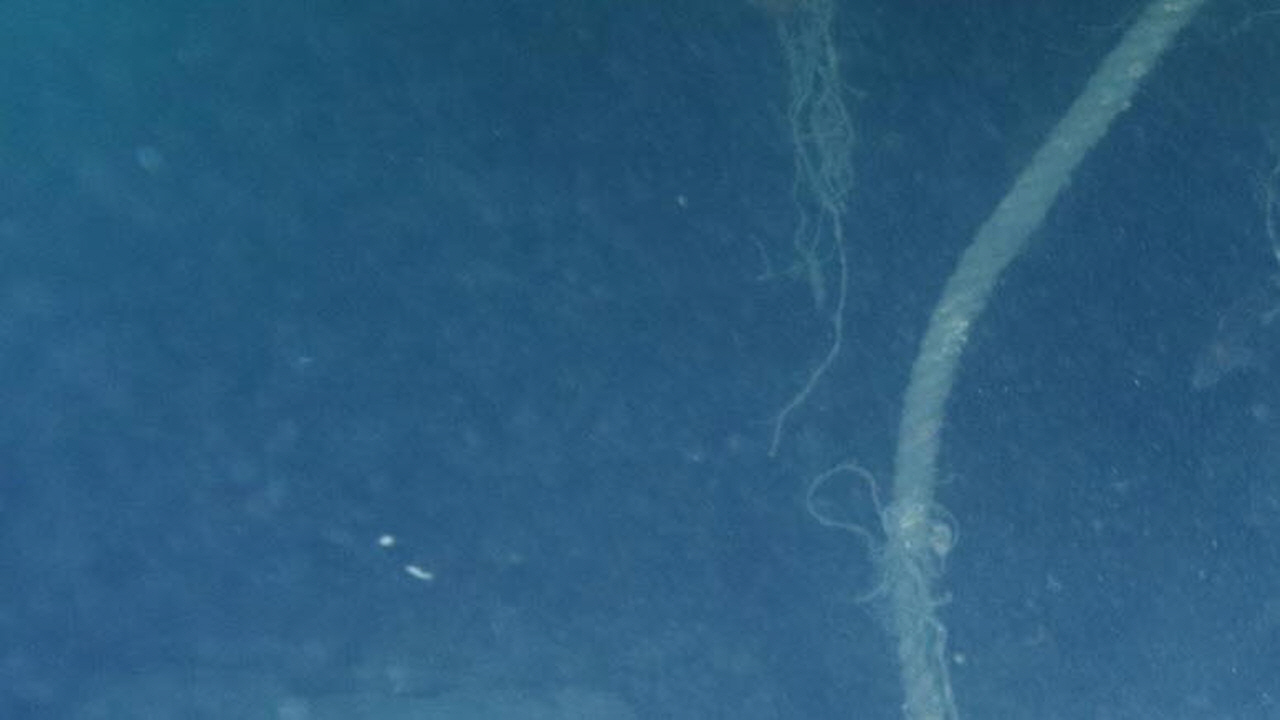rope: (886, 0, 1212, 720)
